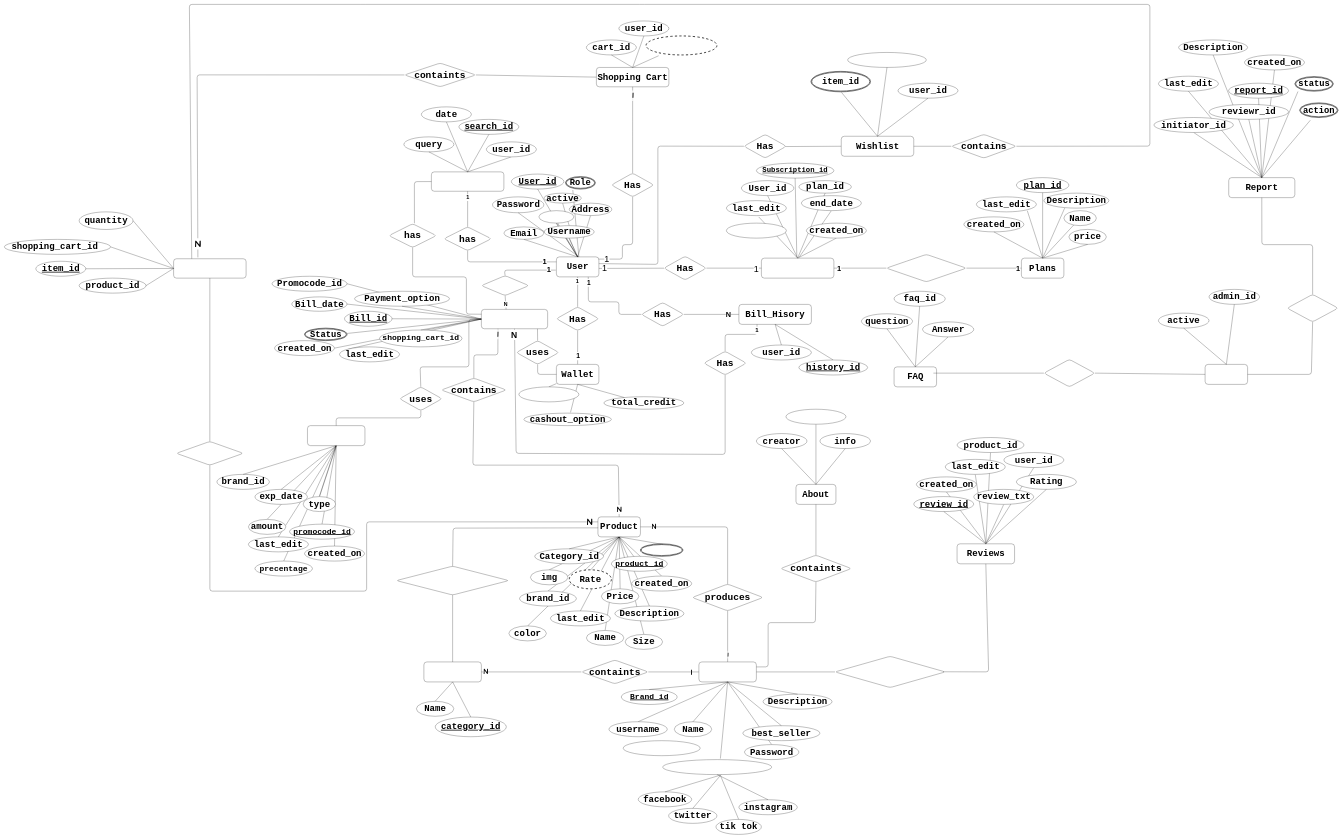
This 1343x840 diagram has some shape labels left out. Each missing label, with the box of its shape:
about_id: (786, 409, 846, 424)
Admin: (1205, 364, 1248, 384)
Bill: (481, 309, 548, 329)
Brand: (699, 662, 756, 682)
Categorized as: (396, 566, 509, 595)
Category: (424, 662, 481, 682)
includes: (176, 441, 243, 465)
is reviewd in: (835, 656, 945, 688)
item: (173, 258, 246, 278)
Makes: (481, 275, 529, 296)
most_recent: (623, 740, 700, 756)
promocode: (307, 425, 365, 446)
review: (1287, 294, 1338, 322)
search hisory: (431, 172, 504, 191)
social media links: (662, 759, 772, 775)
start_date: (726, 223, 786, 238)
subscribe to: (886, 254, 966, 282)
Subscription: (761, 258, 834, 278)
Tag: (640, 543, 683, 556)
Token: (539, 210, 574, 223)
total_price: (646, 35, 717, 55)
updates: (1044, 359, 1095, 387)
Wallet_id: (519, 387, 579, 402)
wishlist_id: (847, 52, 926, 67)
